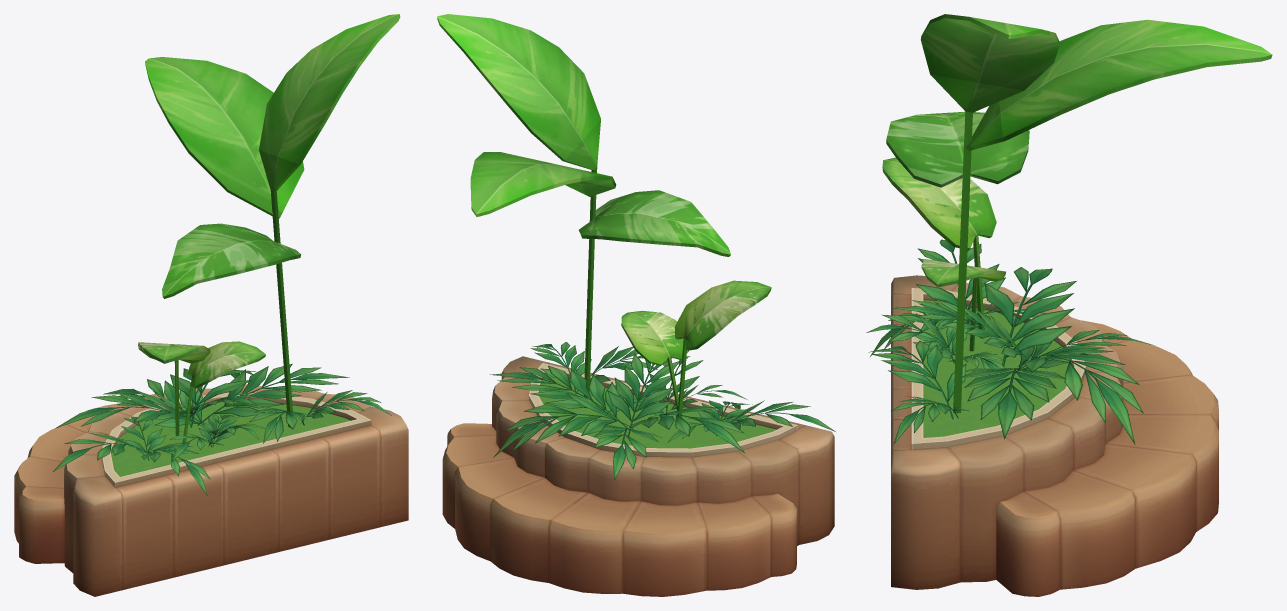
Rendered from my_shoppingmall_01_plantsofa_01.glb.
3 views of the same model, side by side, from view 1: azimuth 30°, elevation 25°; view 2: azimuth 150°, elevation 25°; view 3: azimuth 270°, elevation 25° (orthographic). The views are drawn at different scales.
Visible parts, largest first — view 1: my_shoppingmall_01_plantsofa_01; view 2: my_shoppingmall_01_plantsofa_01; view 3: my_shoppingmall_01_plantsofa_01.
Part boxes in pixels (box(x1,y1,x2,y2)): my_shoppingmall_01_plantsofa_01: box(14, 14, 408, 596); my_shoppingmall_01_plantsofa_01: box(437, 14, 835, 596); my_shoppingmall_01_plantsofa_01: box(866, 14, 1272, 596).
Size of the model in its own units: 0.0151 by 0.0178 by 0.0114.
1 material, 1 textured.
